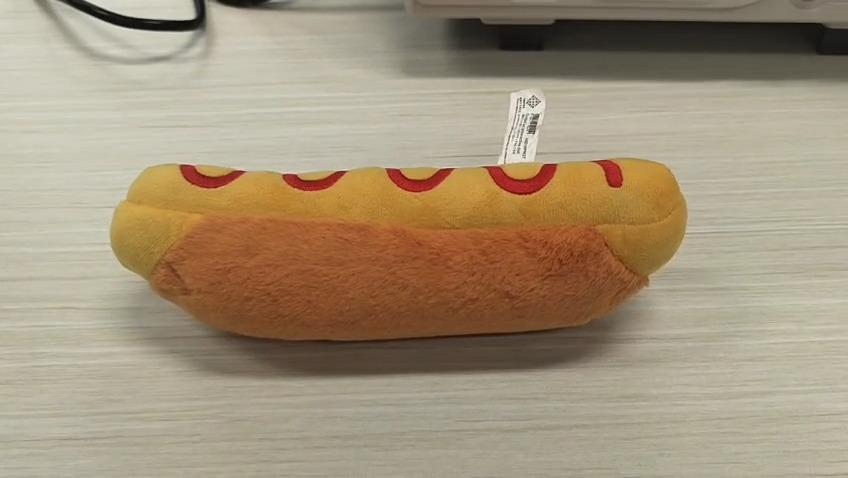hotdog: (109, 164, 688, 339)
